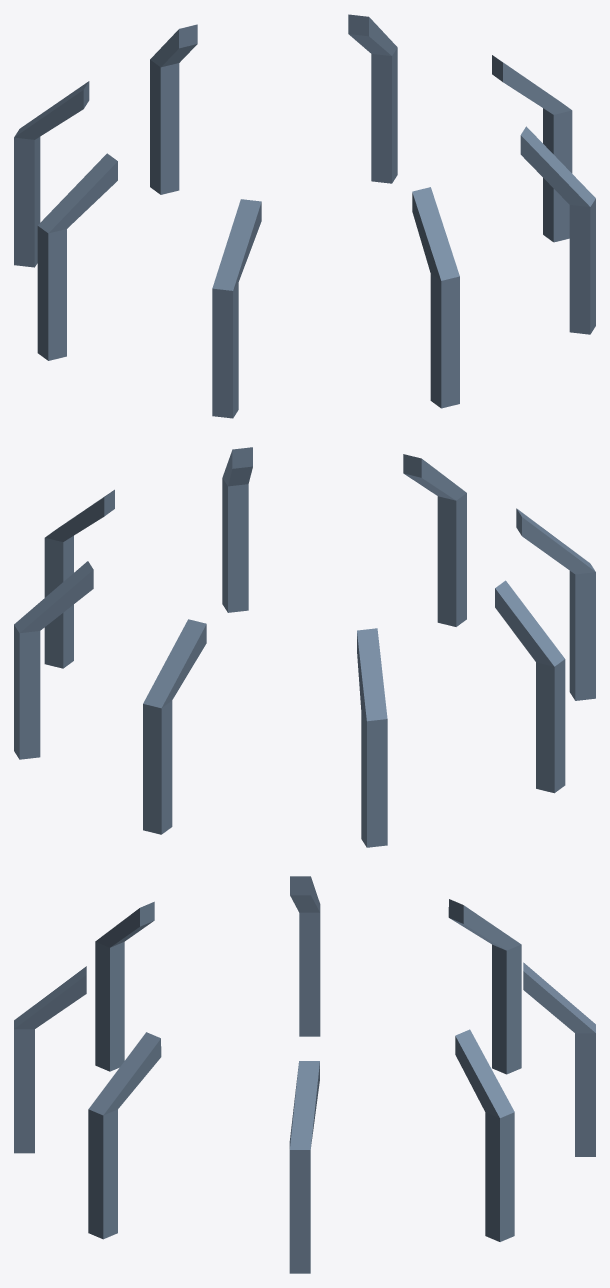
File: chuchu-illu-2.fbx
The picture shows the model from 3 angles, top to bottom: view 1: azimuth 30°, elevation 25°; view 2: azimuth 150°, elevation 25°; view 3: azimuth 270°, elevation 25°; orthographic projection. The views are drawn at different scales.
Parts seen in each view (by area): view 1: Cube.016, Cube.014, Cube.013, Cube.018, Cube.017, Cube.019, Cube.015, Cube.012; view 2: Cube.017, Cube.014, Cube.019, Cube.015, Cube.016, Cube.013, Cube.018, Cube.012; view 3: Cube.018, Cube.015, Cube.019, Cube.013, Cube.012, Cube.017, Cube.016, Cube.014.
Boxes of the visible parts, x1,y1,x2,y2 form: Cube.016: (412,187,459,408); Cube.014: (37,153,117,360); Cube.013: (212,199,261,418); Cube.018: (520,126,595,334); Cube.017: (150,24,197,194); Cube.019: (14,81,89,267); Cube.015: (348,14,397,183); Cube.012: (492,55,572,242); Cube.017: (143,619,206,834); Cube.014: (495,580,565,793); Cube.019: (357,628,387,847); Cube.015: (14,561,93,759); Cube.016: (403,454,466,626); Cube.013: (516,508,595,700); Cube.018: (222,447,252,612); Cube.012: (44,489,114,668); Cube.018: (88,1032,161,1239); Cube.015: (455,1029,514,1241); Cube.019: (448,899,521,1074); Cube.013: (95,901,154,1071); Cube.012: (289,1061,319,1273); Cube.017: (523,962,595,1156); Cube.016: (14,966,86,1153); Cube.014: (290,876,320,1036).
Bounding box in the file's own units: 1112 × 384 × 1112.
